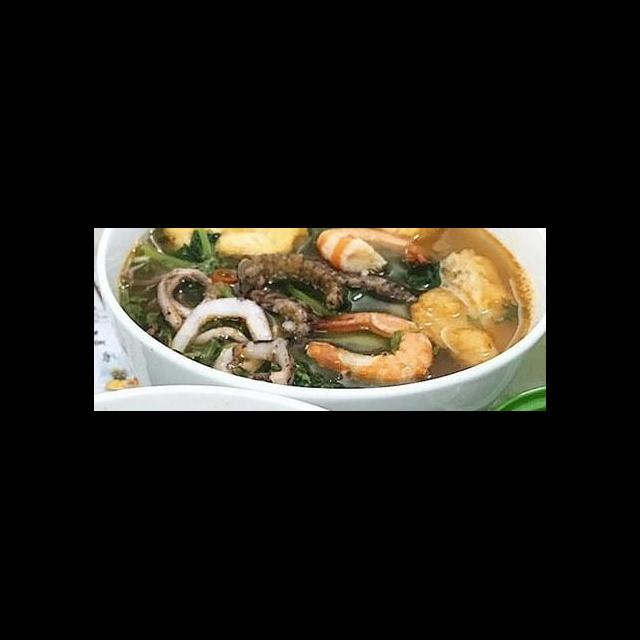tom: (299, 310, 438, 388), (312, 230, 431, 278)
tom tit: (234, 250, 350, 318)
